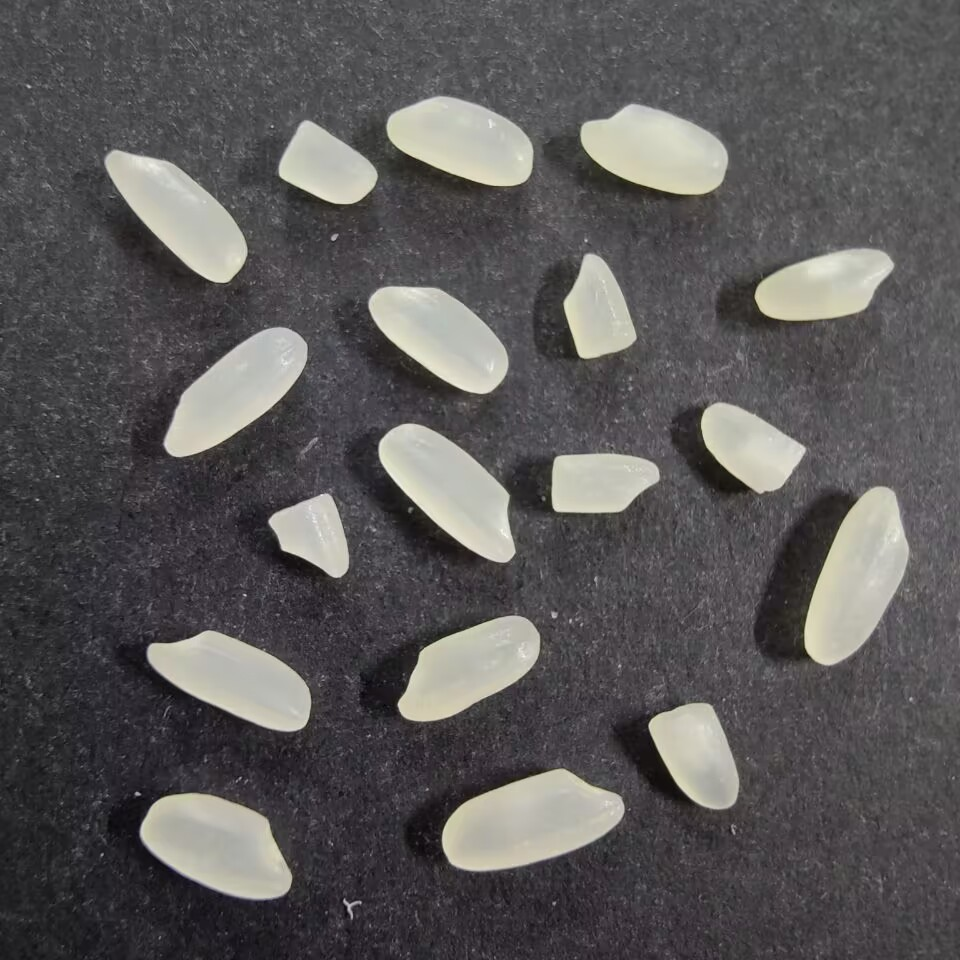broken: (645, 699, 742, 814), (698, 398, 808, 496), (273, 117, 379, 207), (559, 251, 637, 362), (543, 448, 661, 519), (263, 489, 350, 584)
rice: (99, 144, 250, 289), (377, 422, 521, 570), (159, 322, 310, 461), (437, 765, 625, 875), (801, 482, 912, 665), (139, 629, 314, 733), (135, 792, 296, 903), (364, 282, 510, 398), (392, 613, 541, 725), (575, 98, 732, 201), (379, 93, 538, 190), (751, 242, 897, 323)
